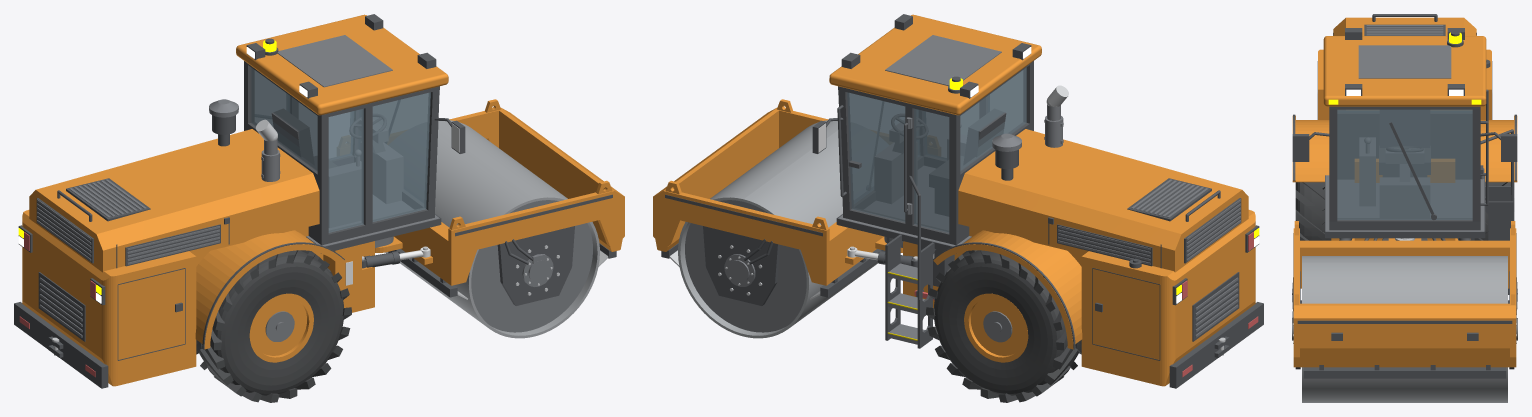
Rendered from Vibratory_Soil_Roller_84in.glb.
3 renders of one model, left to right at view 1: azimuth 30°, elevation 25°; view 2: azimuth 150°, elevation 25°; view 3: azimuth 270°, elevation 25°, orthographic. The views are drawn at different scales.
Parts seen in each view (by area): view 1: drum_frame_sides, drum_mount_plate_L, drum_end_plates, cab_glass, rubber_isolators_L, drum_shell, drum_end_bolts_L, steering_cylinder_rod; view 2: drum_frame_sides, drum_mount_plate_L, drum_end_plates, cab_glass, rubber_isolators_L, drum_shell, drum_end_bolts_L; view 3: drum_frame_sides, drum_mount_plate_L, drum_shell, cab_glass, drum_end_plates, rubber_isolators_L, rear_indicators.
Boxes of the visible parts, x1,y1,x2,y2 form: drum_frame_sides: (22,14,624,386); drum_mount_plate_L: (14,14,616,388); drum_end_plates: (37,35,592,341); cab_glass: (250,67,430,232); rubber_isolators_L: (196,250,351,402); drum_shell: (385,120,599,338); drum_end_bolts_L: (52,119,608,355); steering_cylinder_rod: (345,123,459,285); drum_frame_sides: (653,14,1255,386); drum_mount_plate_L: (661,14,1263,388); drum_end_plates: (685,35,1240,344); cab_glass: (847,67,1026,232); rubber_isolators_L: (926,250,1081,402); drum_shell: (678,120,877,338); drum_end_bolts_L: (669,85,1225,355); drum_frame_sides: (1292,17,1517,367); drum_mount_plate_L: (1292,14,1517,378); drum_shell: (1302,256,1507,402); cab_glass: (1337,109,1472,219); drum_end_plates: (1292,25,1517,340); rubber_isolators_L: (1295,182,1514,303); rear_indicators: (1328,32,1481,104).
Bounding box in the file's own units: 120 × 62.8 × 46.64.
